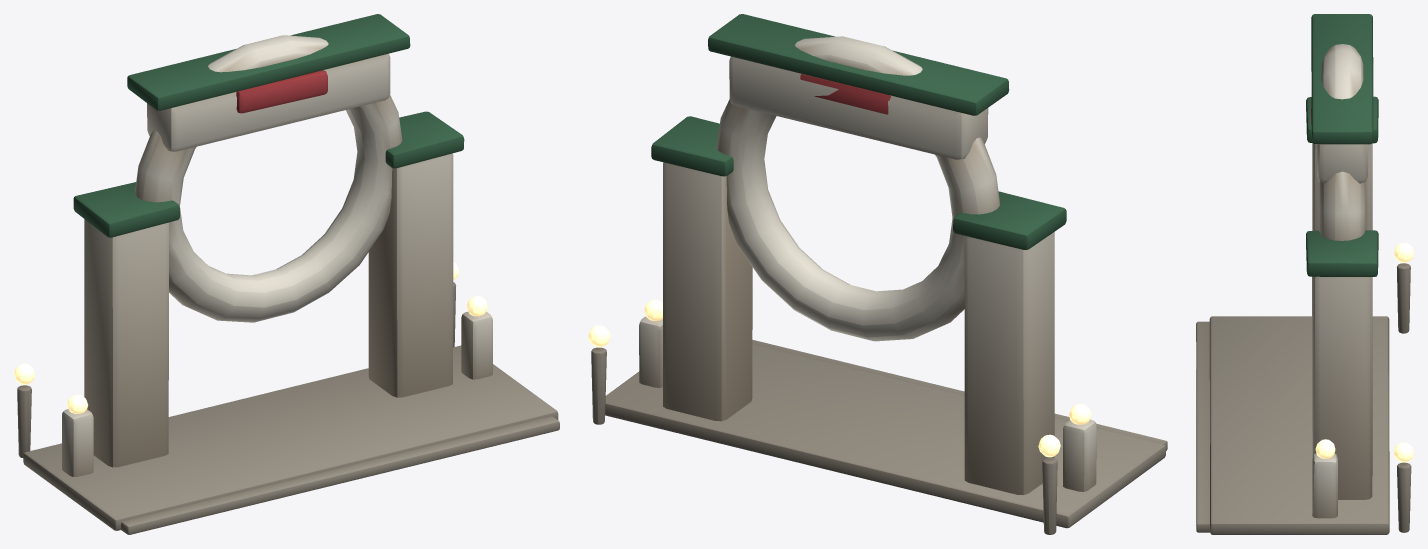
The picture shows the model from 3 angles, left to right: view 1: azimuth 30°, elevation 25°; view 2: azimuth 150°, elevation 25°; view 3: azimuth 270°, elevation 25°; orthographic projection. The views are drawn at different scales.
Parts seen in each view (by area): view 1: gate_cf1c63cc; view 2: gate_cf1c63cc; view 3: gate_cf1c63cc.
Boxes of the visible parts, x1,y1,x2,y2 form: gate_cf1c63cc: (14,14,559,534); gate_cf1c63cc: (588,14,1167,534); gate_cf1c63cc: (1196,14,1413,534).
Bounding box in the file's own units: 5.79 × 4.81 × 2.55.
